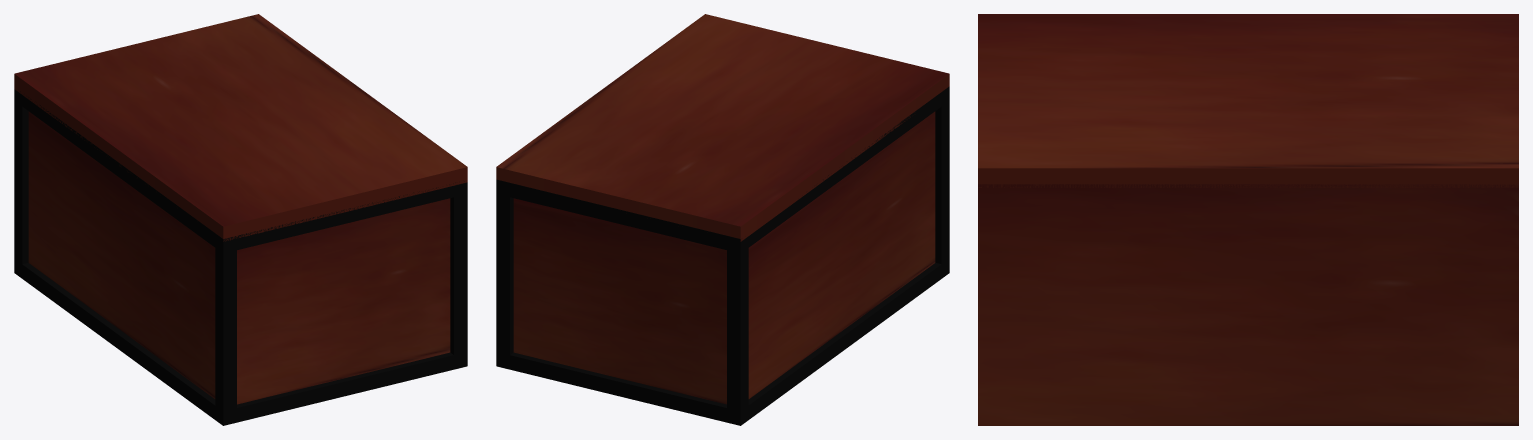
File: ToyChest.fbx
3 views of the same model, side by side, from view 1: azimuth 30°, elevation 25°; view 2: azimuth 150°, elevation 25°; view 3: azimuth 270°, elevation 25° (orthographic). The views are drawn at different scales.
Parts seen in each view (by area): view 1: ToyChest, ToyChestLid; view 2: ToyChest, ToyChestLid; view 3: ToyChest, ToyChestLid.
Boxes of the visible parts, <box> form: ToyChest: <box>14,89,467,425</box>; ToyChestLid: <box>14,14,467,241</box>; ToyChest: <box>496,86,949,425</box>; ToyChestLid: <box>496,14,949,241</box>; ToyChest: <box>978,184,1518,425</box>; ToyChestLid: <box>978,14,1518,187</box>.
Bounding box in the file's own units: 176 × 137 × 261.
